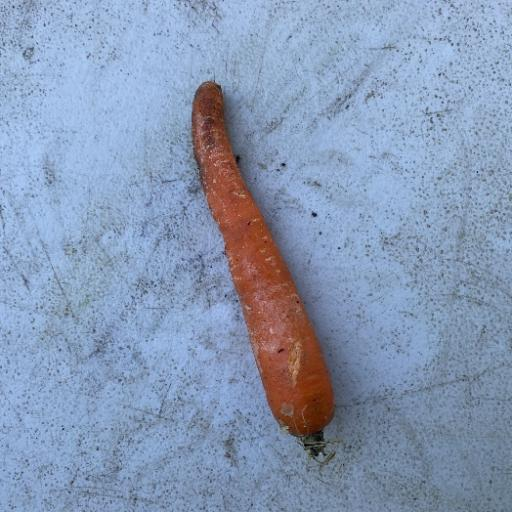Waste: (188, 79, 337, 454)
